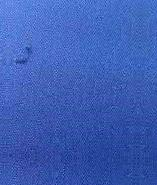knot: (13, 44, 33, 69)
